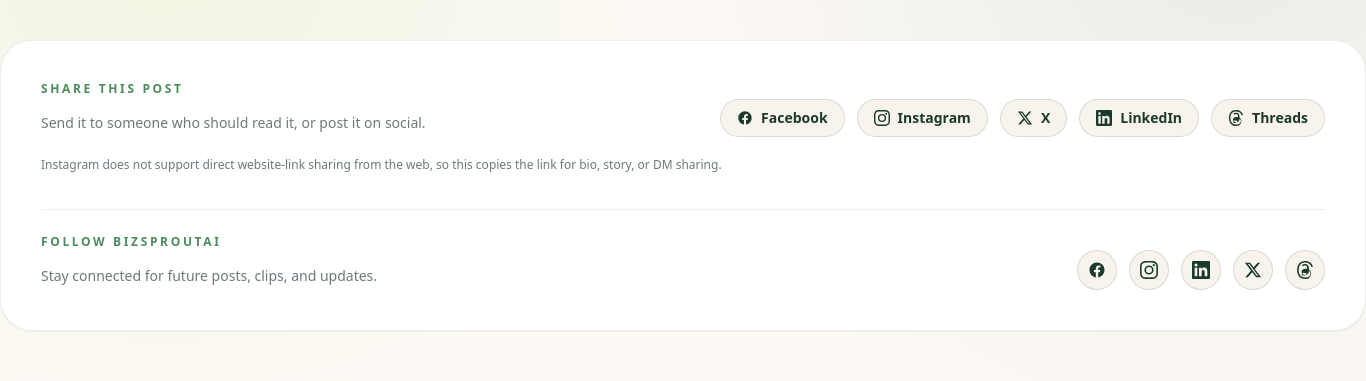
BlogShareActions › copies the article URL for Instagram sharing
Click the button with aria-label "Instagram share" at (922,118), box [857,99,988,137]
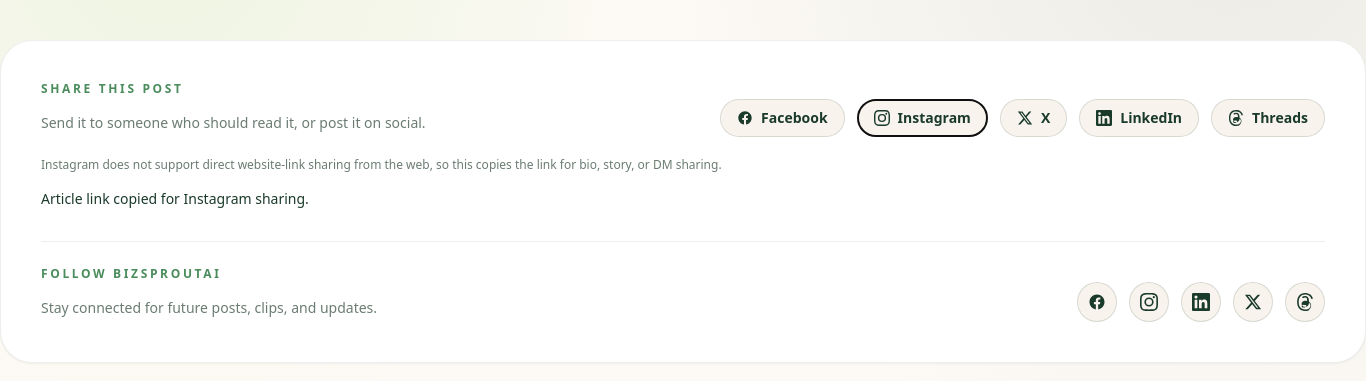
Expected: the text "Article link copied for Instagram sharing." is shown, [41,189,309,208]
